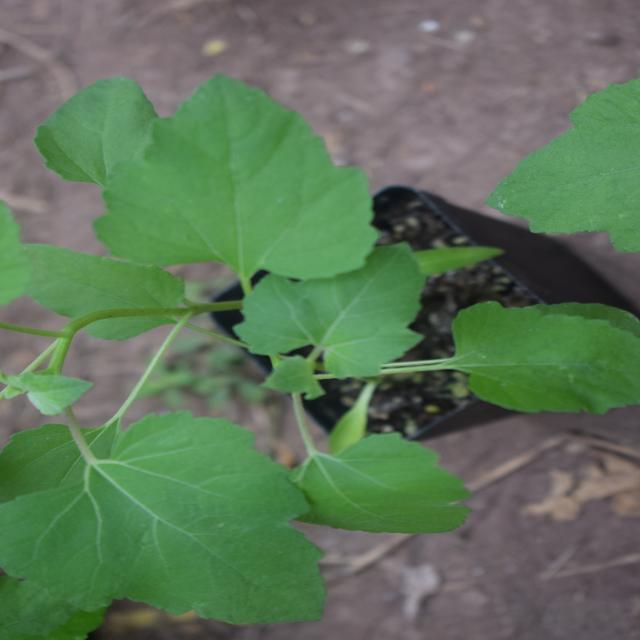cocklebur: (41, 0, 509, 467)
